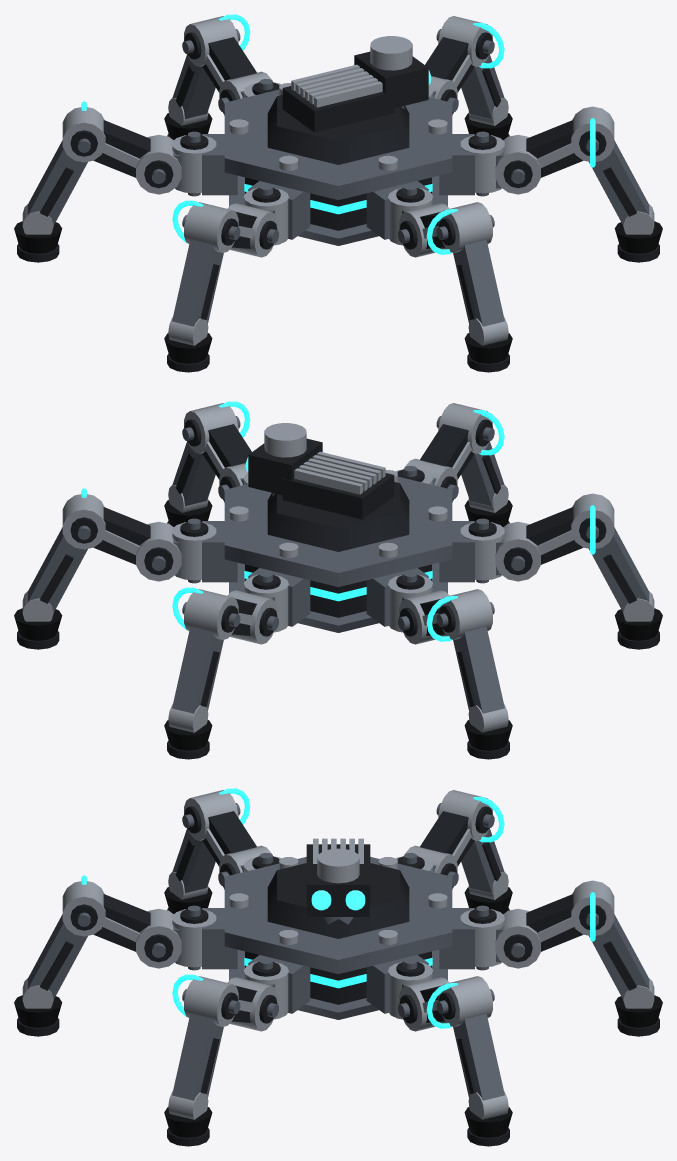
Rendered from hexapod.glb.
3 views of the same model, one above another, from view 1: azimuth 30°, elevation 25°; view 2: azimuth 150°, elevation 25°; view 3: azimuth 270°, elevation 25° (orthographic).
Visible parts, largest first — view 1: chassis_top_plate, deck_riser, battery_pack, leg2_tibia, leg3_tibia, heatsink, sensor_head, leg4_tibia, leg1_tibia, leg3_knee_servo_case, chassis_bottom_plate, leg2_knee_servo_case (+36 smaller); view 2: chassis_top_plate, deck_riser, battery_pack, leg4_tibia, leg5_tibia, heatsink, sensor_head, leg6_tibia, leg3_tibia, leg5_knee_servo_case, chassis_bottom_plate, leg4_knee_servo_case (+36 smaller); view 3: chassis_top_plate, deck_riser, leg1_tibia, leg6_tibia, sensor_head, leg2_tibia, leg5_tibia, leg1_knee_servo_case, chassis_bottom_plate, leg6_knee_servo_case, chassis_core, leg2_hip_bracket (+37 smaller).
Boxes of the visible parts, x1=… form: chassis_top_plate: x1=224, y1=89, x2=452, y2=199; deck_riser: x1=267, y1=95, x2=409, y2=164; battery_pack: x1=282, y1=86, x2=394, y2=132; leg2_tibia: x1=453, y1=239, x2=504, y2=326; leg3_tibia: x1=172, y1=239, x2=223, y2=326; heatsink: x1=291, y1=64, x2=382, y2=107; sensor_head: x1=354, y1=51, x2=428, y2=108; leg4_tibia: x1=27, y1=140, x2=87, y2=225; leg1_tibia: x1=589, y1=140, x2=649, y2=225; leg3_knee_servo_case: x1=184, y1=202, x2=238, y2=252; chassis_bottom_plate: x1=229, y1=175, x2=447, y2=245; leg2_knee_servo_case: x1=438, y1=202, x2=492, y2=252; chassis_top_plate: x1=224, y1=476, x2=452, y2=586; deck_riser: x1=267, y1=482, x2=409, y2=551; battery_pack: x1=282, y1=473, x2=394, y2=519; leg4_tibia: x1=453, y1=626, x2=504, y2=713; leg5_tibia: x1=172, y1=626, x2=223, y2=713; heatsink: x1=294, y1=451, x2=385, y2=494; sensor_head: x1=248, y1=438, x2=322, y2=495; leg6_tibia: x1=27, y1=527, x2=87, y2=612; leg3_tibia: x1=589, y1=527, x2=649, y2=612; leg5_knee_servo_case: x1=184, y1=589, x2=238, y2=639; chassis_bottom_plate: x1=229, y1=562, x2=447, y2=632; leg4_knee_servo_case: x1=438, y1=589, x2=492, y2=639; chassis_top_plate: x1=224, y1=857, x2=452, y2=973; deck_riser: x1=267, y1=863, x2=409, y2=938; leg1_tibia: x1=172, y1=1013, x2=223, y2=1100; leg6_tibia: x1=453, y1=1013, x2=504, y2=1100; sensor_head: x1=307, y1=864, x2=369, y2=916; leg2_tibia: x1=27, y1=914, x2=87, y2=999; leg5_tibia: x1=589, y1=914, x2=649, y2=999; leg1_knee_servo_case: x1=184, y1=976, x2=238, y2=1026; chassis_bottom_plate: x1=229, y1=949, x2=447, y2=1019; leg6_knee_servo_case: x1=438, y1=976, x2=492, y2=1026; chassis_core: x1=245, y1=951, x2=431, y2=1004; leg2_hip_bracket: x1=202, y1=908, x2=237, y2=969.
Bounding box in the file's own units: 0.8005 × 0.3042 × 0.9139.
